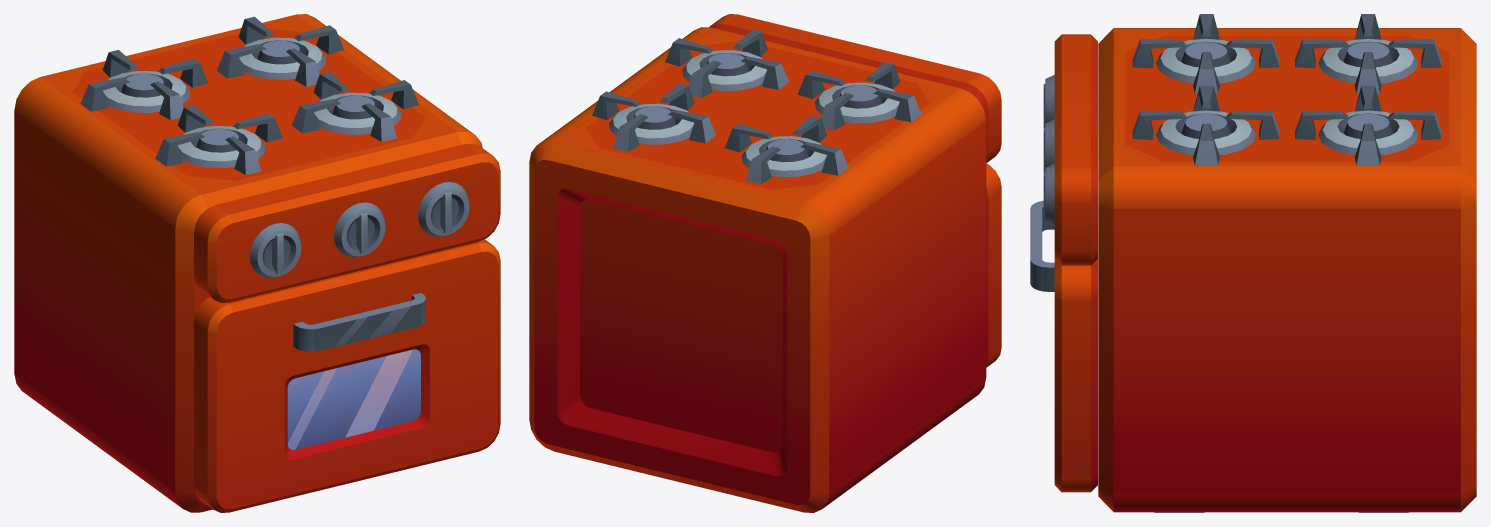
Rendered from stove.fbx.
3 renders of one model, left to right at view 1: azimuth 30°, elevation 25°; view 2: azimuth 150°, elevation 25°; view 3: azimuth 270°, elevation 25°, orthographic. The views are drawn at different scales.
Parts seen in each view (by area): view 1: stove, stove_door; view 2: stove, stove_door; view 3: stove, stove_door.
Part boxes in pixels (<box>): stove: <box>14,14,500,512</box>; stove_door: <box>194,239,500,512</box>; stove: <box>529,14,1001,512</box>; stove_door: <box>986,163,1001,367</box>; stove: <box>1043,14,1476,512</box>; stove_door: <box>1030,200,1097,492</box>.
Bounding box in the file's own units: 82.16 × 89.85 × 95.39.
